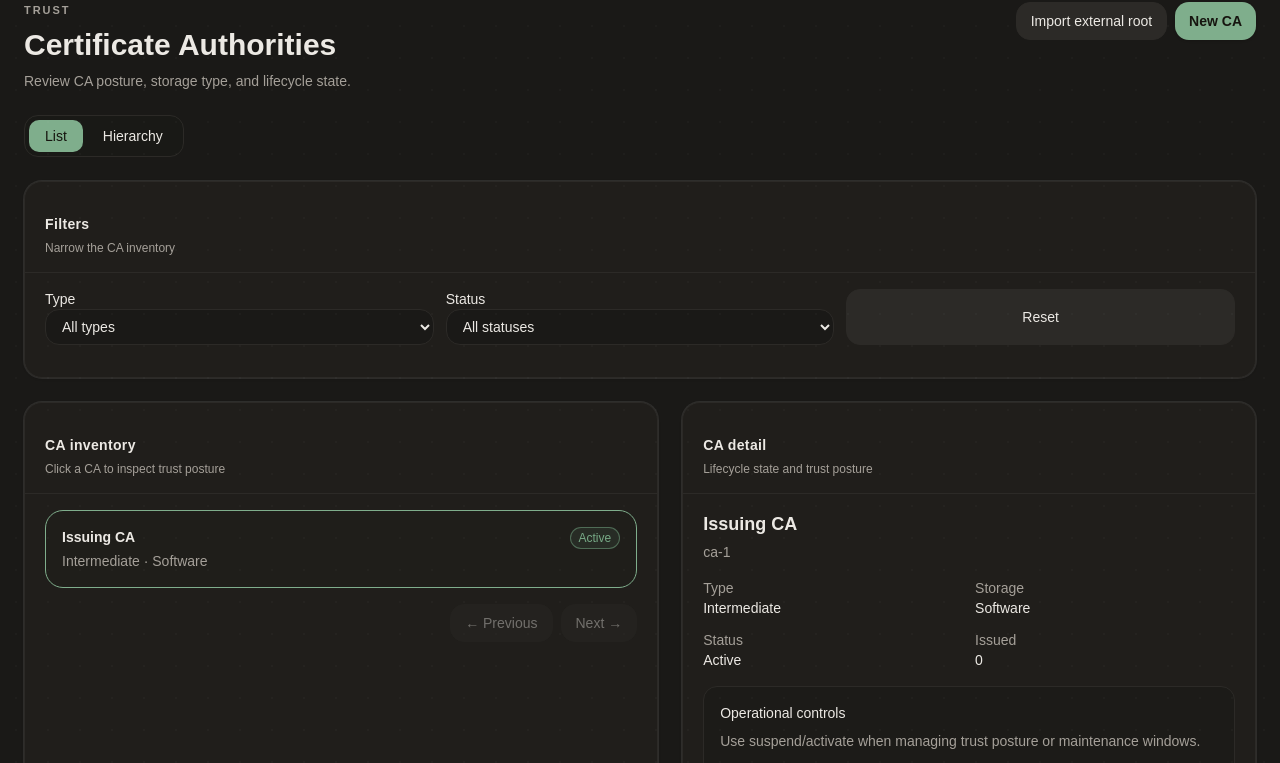
Test: CA revoke (W23-36) › shows blast-radius preview before confirm
The image size is (1280, 763).
Click the button "Issuing CA Intermediate · Software Active".
click(99, 536)  # box [45, 510, 637, 588]
(page scrolled)
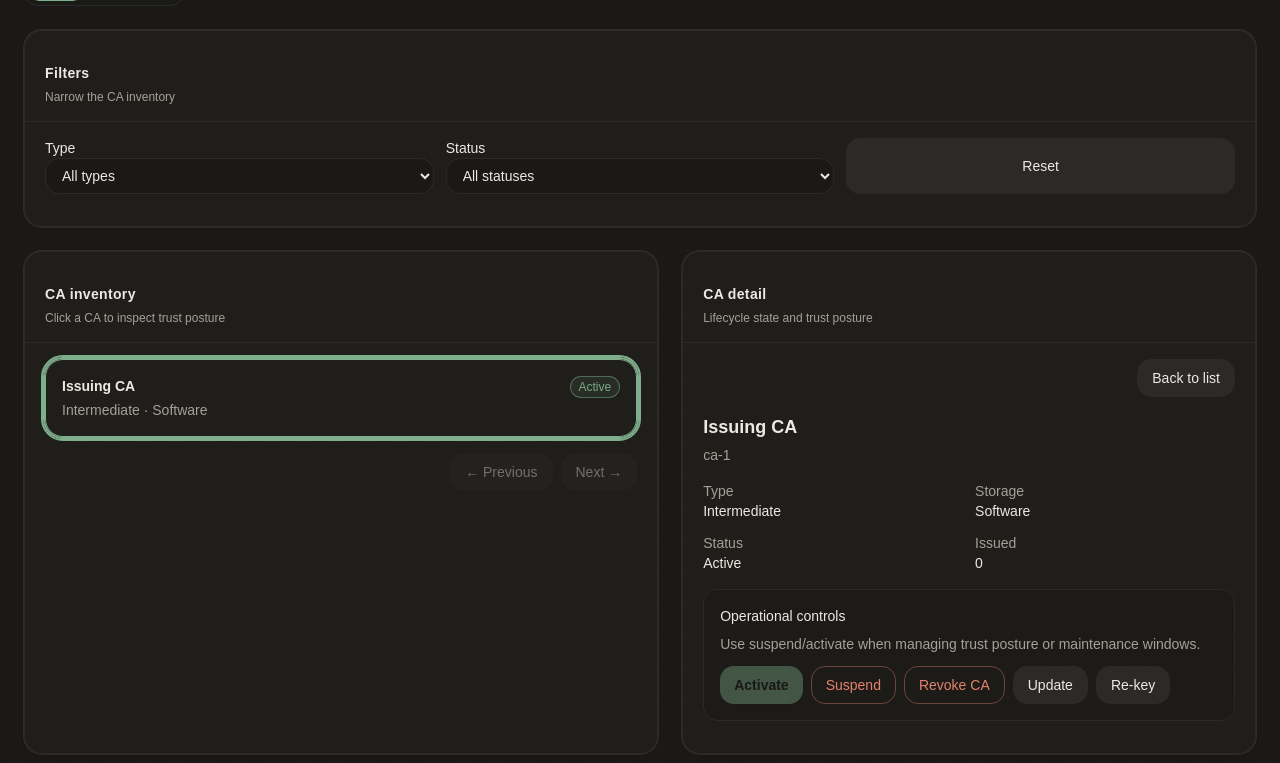
Click the button "Revoke CA".
click(954, 684)  # box [904, 666, 1005, 704]
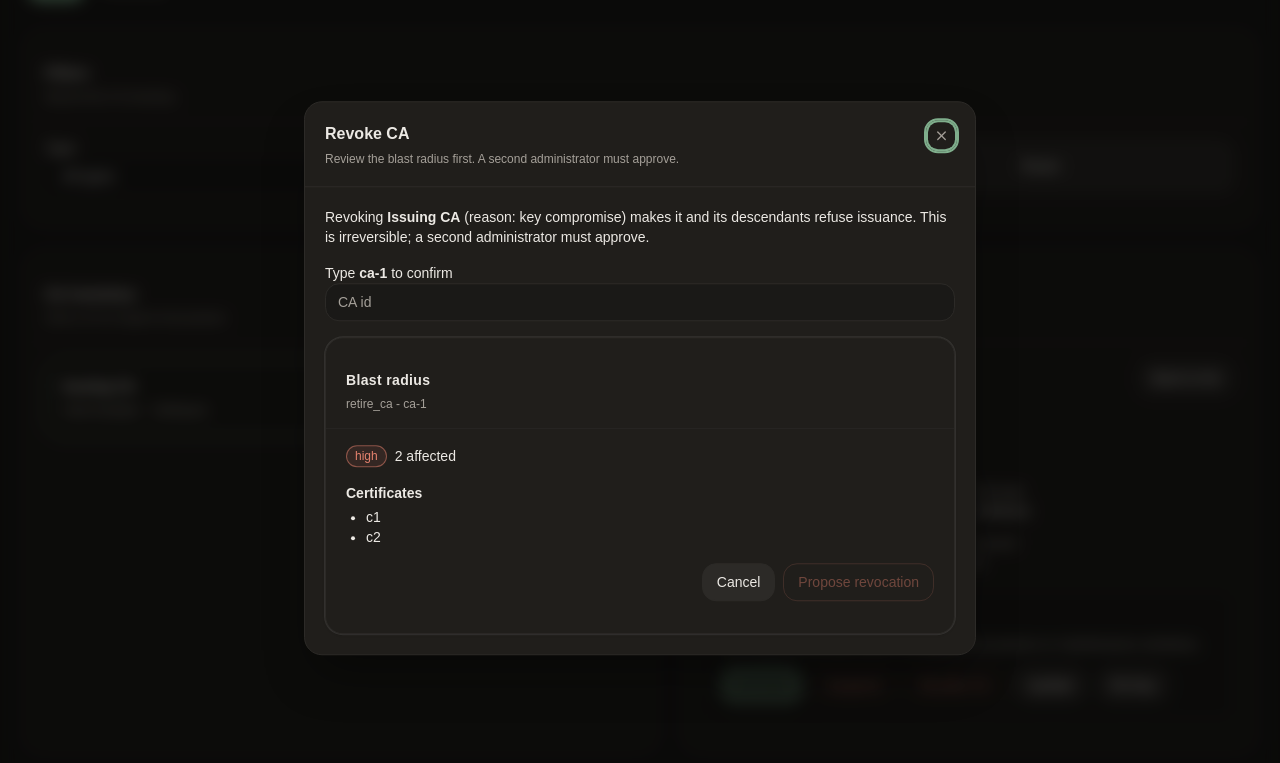
Result: the button "Propose revocation" is disabled at [783, 563, 934, 601]
Result: the text "2 affected" is shown at [395, 446, 456, 466]
Type "ca-1" into the field labelled "Type ca-1 to confirm".
click(640, 302); type("ca-1")  # box [325, 283, 955, 321]
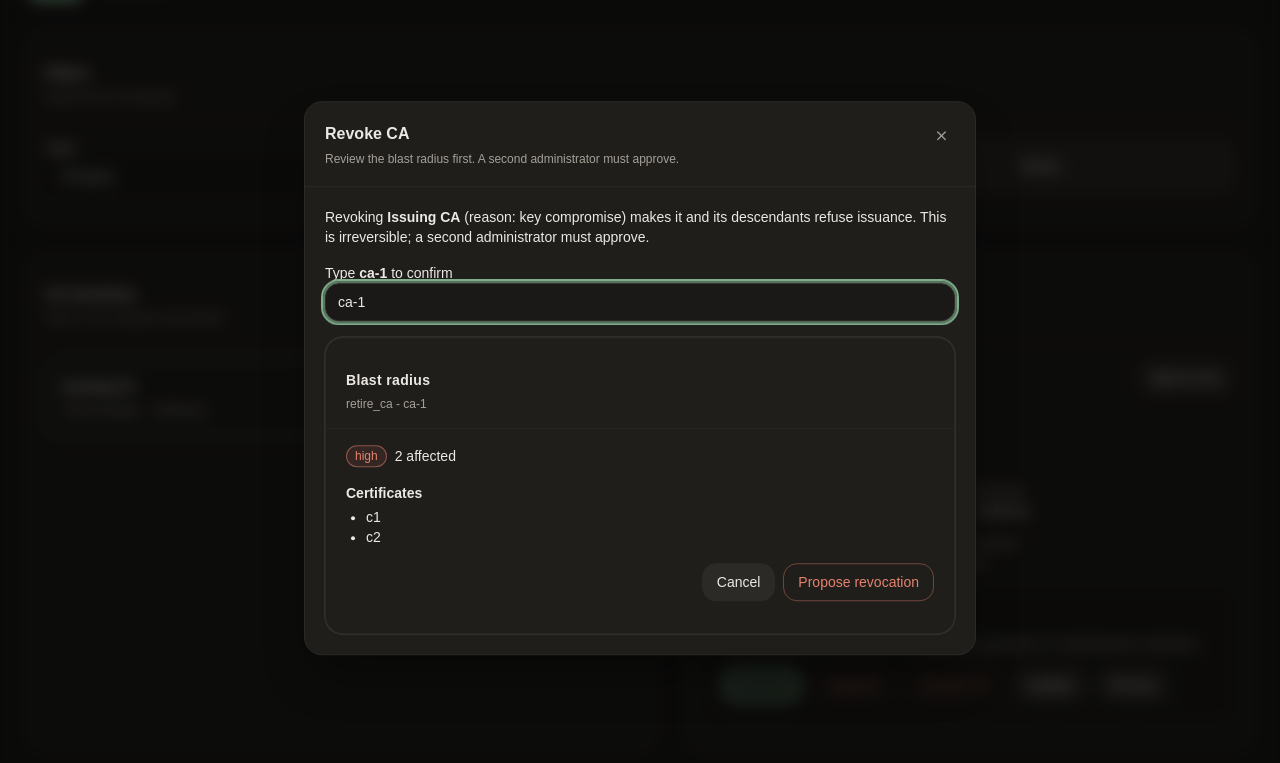
Result: the button "Propose revocation" is enabled at [783, 563, 934, 601]
